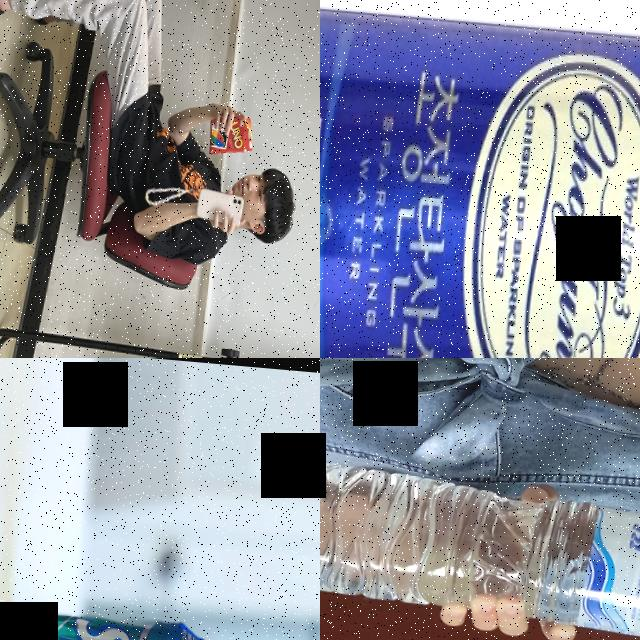bottle: (320, 454, 640, 640)
can: (320, 0, 640, 358), (0, 604, 213, 640)
